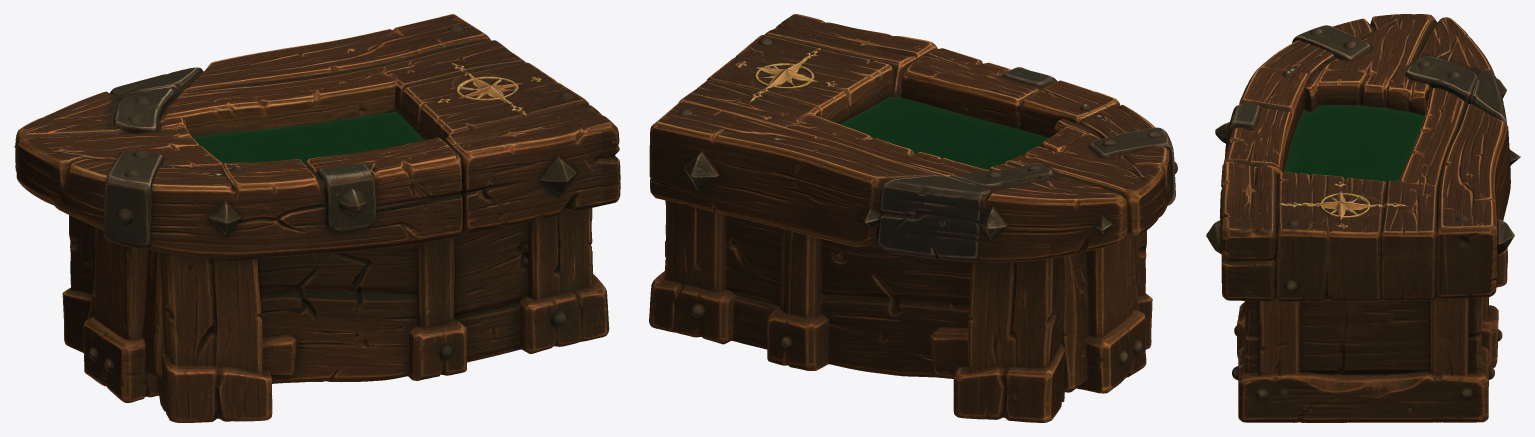
File: furniture_11.glb
The picture shows the model from 3 angles, left to right: view 1: azimuth 30°, elevation 25°; view 2: azimuth 150°, elevation 25°; view 3: azimuth 270°, elevation 25°; orthographic projection. The views are drawn at different scales.
Bounding box in the file's own units: 1.9 × 0.905 × 1.19.
Materials: 1 (1 with a texture image).
